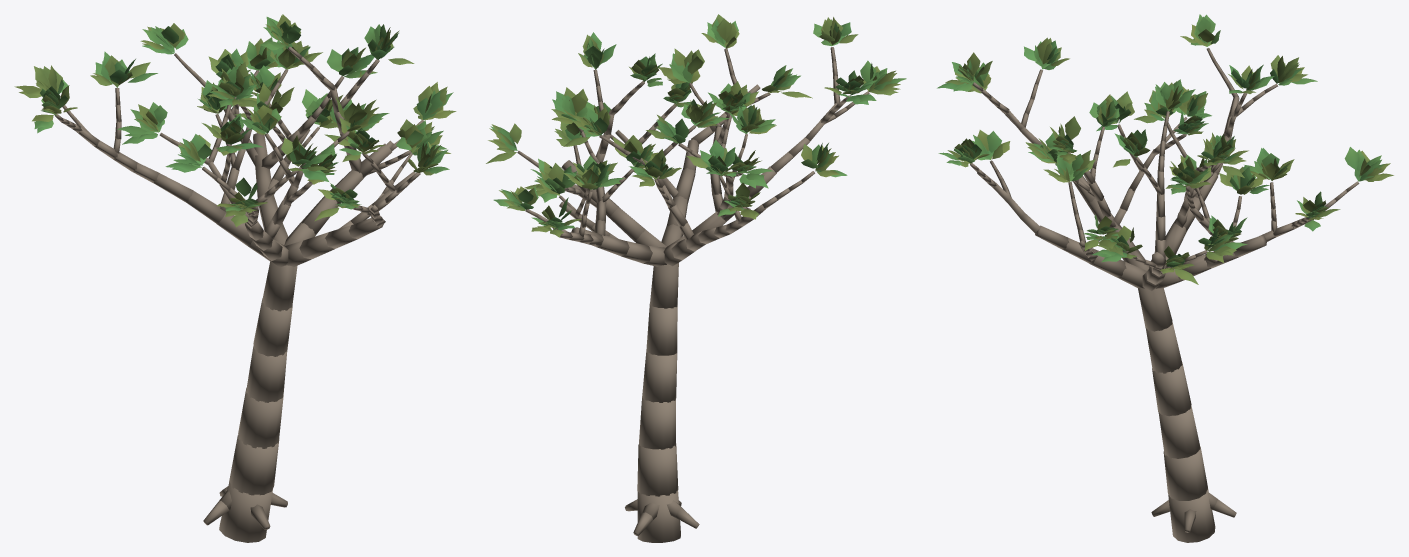
The model's file is tree_broadleaf_b.glb.
The picture shows the model from 3 angles, left to right: view 1: azimuth 30°, elevation 25°; view 2: azimuth 150°, elevation 25°; view 3: azimuth 270°, elevation 25°; orthographic projection. The views are drawn at different scales.
Visible parts, largest first — view 1: tree_broadleaf_b; view 2: tree_broadleaf_b; view 3: tree_broadleaf_b.
Boxes of the visible parts, box(x1,y1,x2,y2) form: tree_broadleaf_b: box(14, 14, 456, 542); tree_broadleaf_b: box(486, 14, 906, 542); tree_broadleaf_b: box(937, 14, 1393, 542).
Size of the model in its own units: 8.06 by 9.82 by 8.8.
